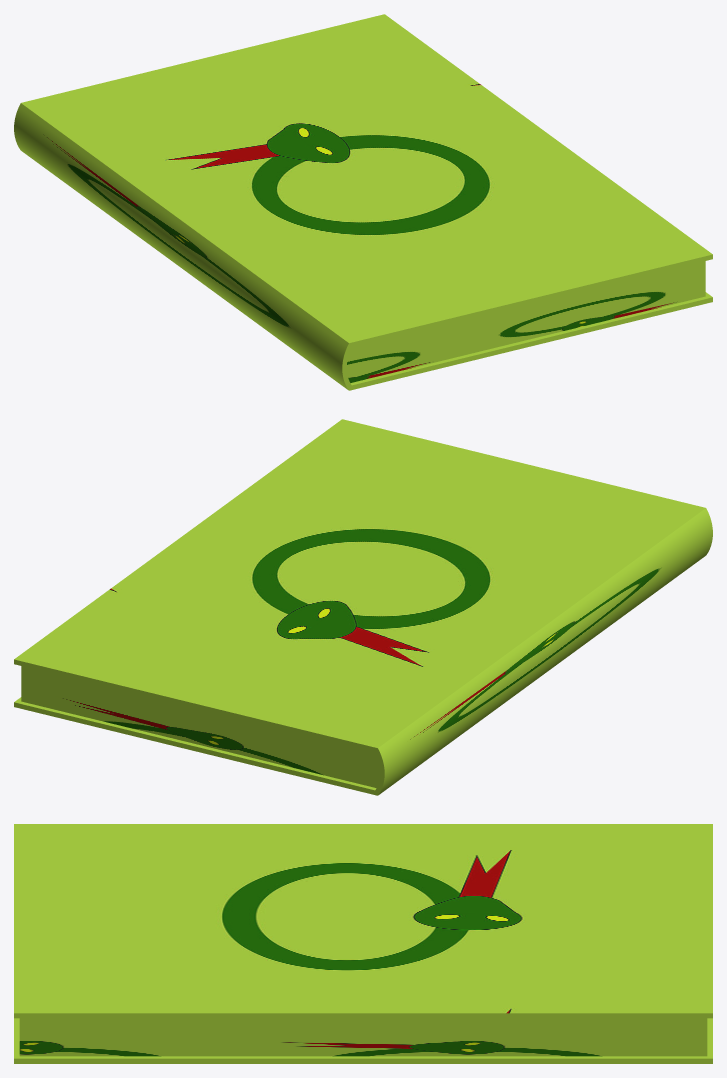
The model's file is snake500.fbx.
The picture shows the model from 3 angles, top to bottom: view 1: azimuth 30°, elevation 25°; view 2: azimuth 150°, elevation 25°; view 3: azimuth 270°, elevation 25°; orthographic projection. The views are drawn at different scales.
Parts seen in each view (by area): view 1: book_shape:polySurface1; view 2: book_shape:polySurface1; view 3: book_shape:polySurface1.
Boxes of the visible parts, bbox=[...] form: book_shape:polySurface1: bbox=[14, 14, 712, 390]; book_shape:polySurface1: bbox=[14, 419, 712, 795]; book_shape:polySurface1: bbox=[14, 824, 712, 1063].
Size of the model in its own units: 16.3 by 2 by 25.
Materials: 1 (1 with a texture image).
